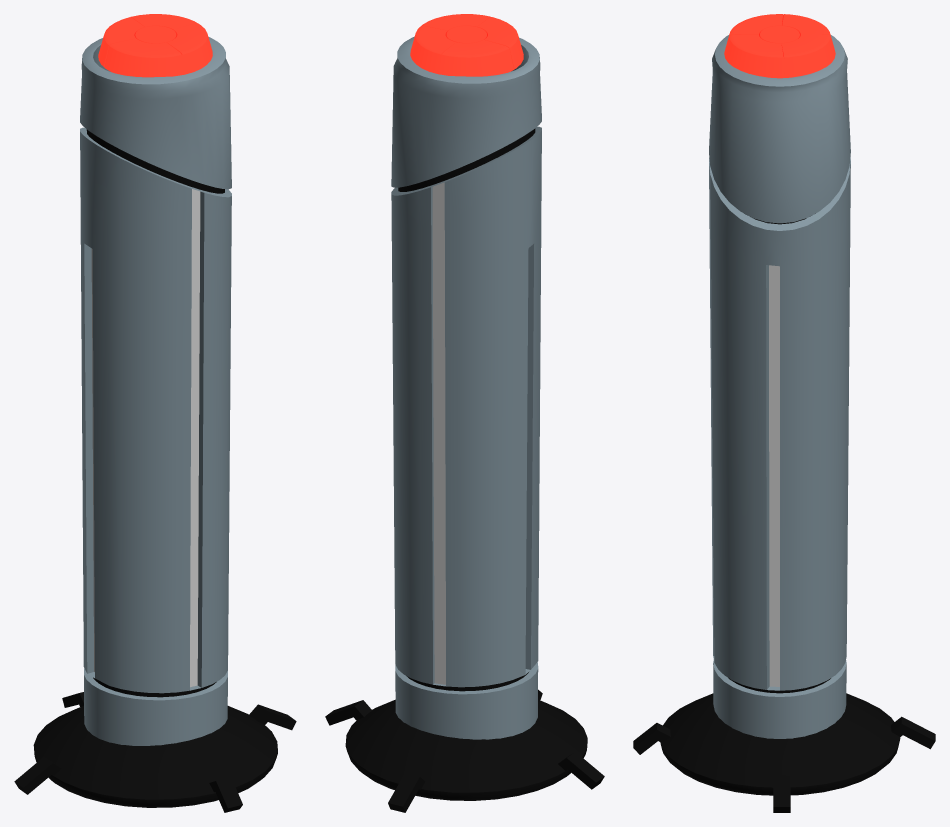
The model's file is BotonParadoPortal.fbx.
3 views of the same model, side by side, from view 1: azimuth 30°, elevation 25°; view 2: azimuth 150°, elevation 25°; view 3: azimuth 270°, elevation 25° (orthographic).
Parts seen in each view (by area): view 1: Cube.001, Cylinder.001; view 2: Cube.001, Cylinder.001; view 3: Cube.001, Cylinder.001.
Part boxes in pixels (x1,y1,x2,y2): Cube.001: (14,37,296,812); Cylinder.001: (98,14,212,77); Cube.001: (325,36,604,812); Cylinder.001: (410,14,523,76); Cube.001: (633,35,935,812); Cylinder.001: (724,14,835,78).
Size of the model in its own units: 133 by 339 by 130.
